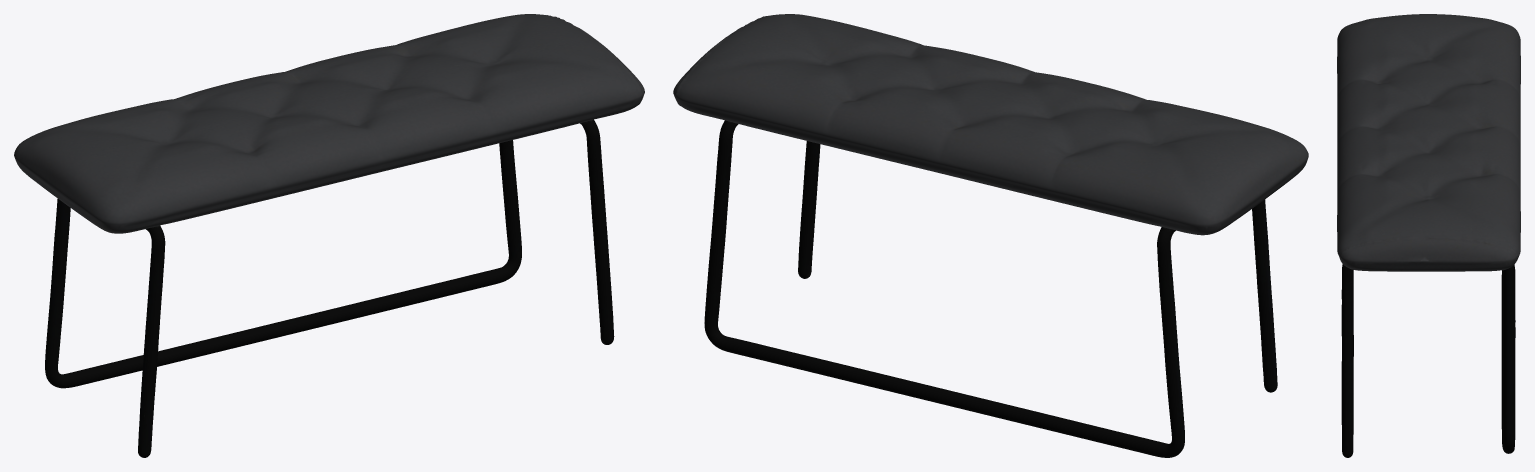
Rendered from product-scandinavian-level-43-leather-bench-bella-black-02.glb.
3 renders of one model, left to right at view 1: azimuth 30°, elevation 25°; view 2: azimuth 150°, elevation 25°; view 3: azimuth 270°, elevation 25°, orthographic. The views are drawn at different scales.
Visible parts, largest first — view 1: geometry_0; view 2: geometry_0; view 3: geometry_0.
Part boxes in pixels (bbox=[...]): geometry_0: bbox=[14, 14, 644, 457]; geometry_0: bbox=[673, 14, 1308, 457]; geometry_0: bbox=[1337, 14, 1520, 457].
Size of the model in its own units: 1.98 by 0.9504 by 0.6567.
1 material, 1 textured.
